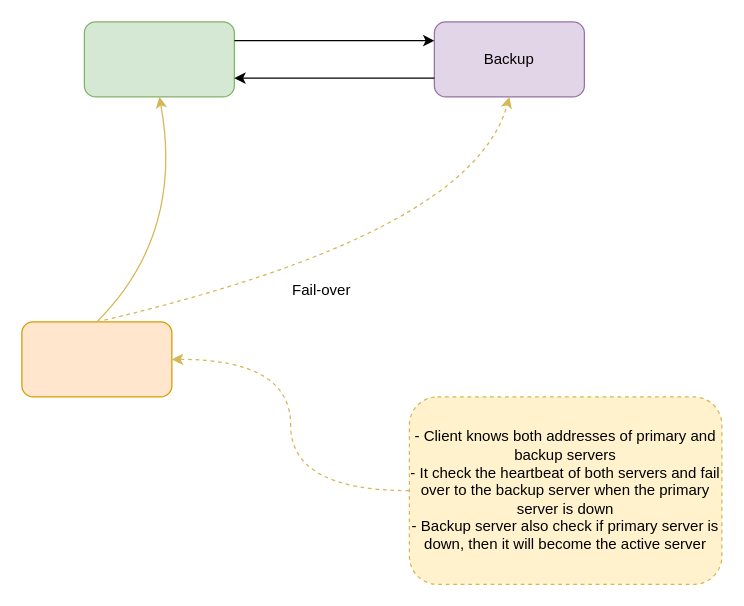
Image size: 744x606. Some labels were removed from this diagram. The shapes that lost their labels are listed below. From the top down, each one's centre as x and y in pixels, then its label:
At point (158, 59): "Primary".
At point (96, 359): "Client".
